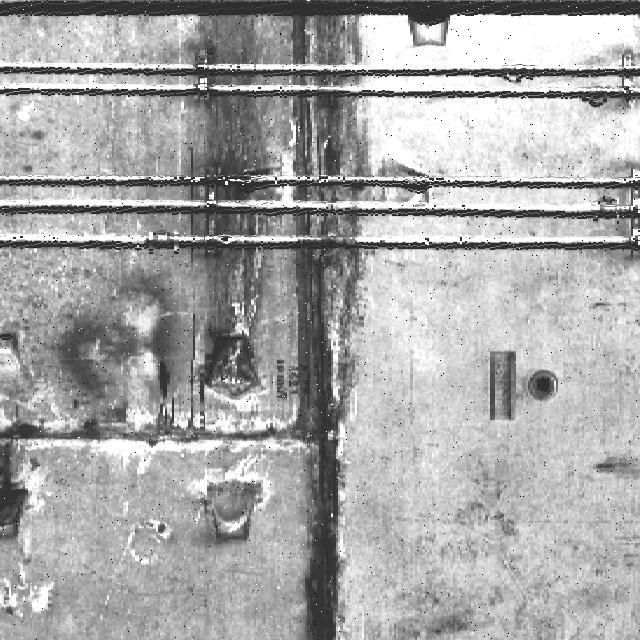leakage: (289, 10, 375, 640), (180, 11, 274, 382), (49, 406, 277, 459), (1, 431, 45, 562)
